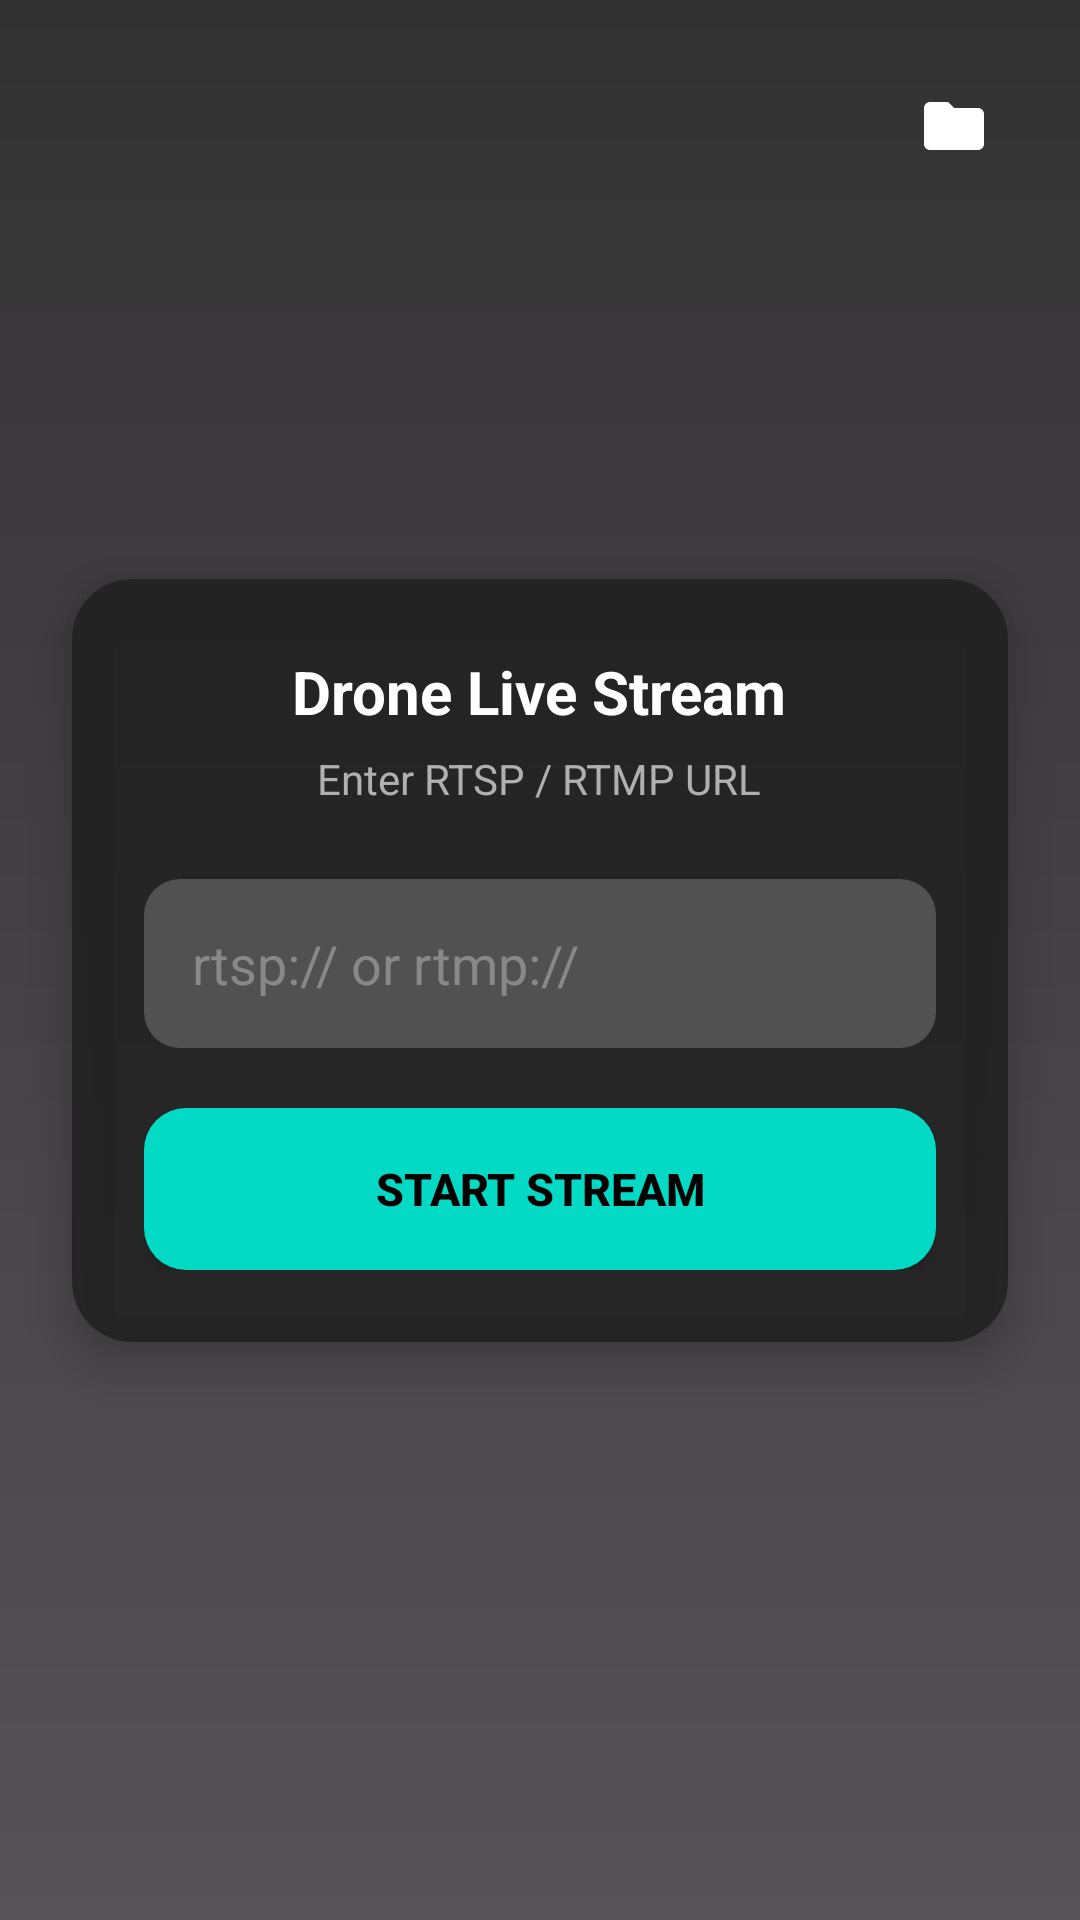

Icon bounding boxes for this 1080px×1920px phone screenshot, format (x1, y1, x2, y2):
Open recordings: (924, 102, 984, 150)
